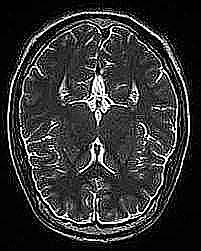Normal_Brain: (4, 3, 201, 251)
